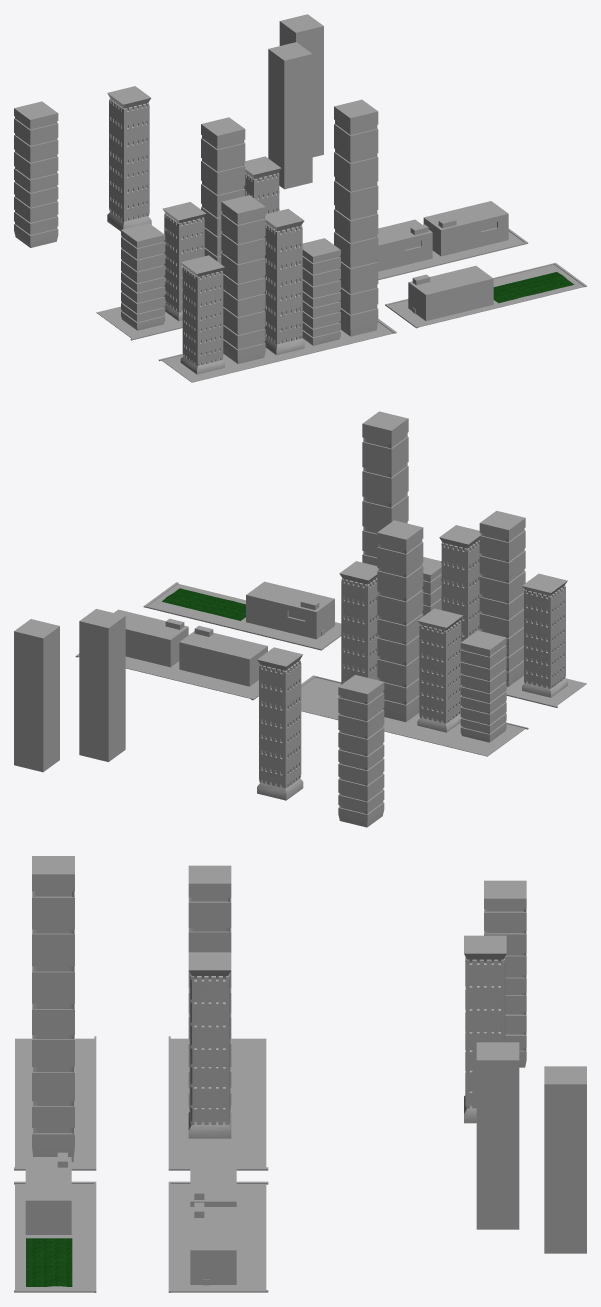
Rendered from FullScene.fbx.
The picture shows the model from 3 angles, top to bottom: view 1: azimuth 30°, elevation 25°; view 2: azimuth 150°, elevation 25°; view 3: azimuth 270°, elevation 25°; orthographic projection. The views are drawn at different scales.
Parts seen in each view (by area): view 1: pasted__pasted__pasted__pCube1 (×4), pasted__pasted__pasted__pasted__pCube1 (×4), Sidewalk, pCube1, pasted__pasted__pasted__pasted__pasted__pCube1, pasted__pasted__pCube1, polySurface2, polySurface1, pasted__pCube1, pasted__polySurface2, pasted__pasted__pasted__pasted__pasted__pasted__pCube1, pPlane1; view 2: pasted__pasted__pasted__pasted__pCube1 (×4), pasted__pasted__pasted__pCube1 (×4), Sidewalk, pCube1, pasted__pCube1, pasted__pasted__pasted__pasted__pasted__pasted__pCube1, polySurface2, pasted__pasted__pasted__pasted__pasted__pCube1, pasted__polySurface2, polySurface1, pPlane1, pasted__pasted__pCube1; view 3: Sidewalk, pasted__pasted__pasted__pCube1 (×2), pasted__pasted__pasted__pasted__pCube1 (×2), pCube1, pasted__pCube1, pasted__pasted__pasted__pasted__pasted__pasted__pCube1, polySurface1, polySurface2, pPlane1, pasted__polySurface2.
Boxes of the visible parts, left/top/right/bottom form: pasted__pasted__pasted__pCube1 (×4): left=14, top=99, right=378, bottom=374; pasted__pasted__pasted__pasted__pCube1 (×4): left=107, top=86, right=265, bottom=363; Sidewalk: left=96, top=228, right=586, bottom=382; pCube1: left=268, top=42, right=312, bottom=189; pasted__pasted__pasted__pasted__pasted__pCube1: left=265, top=208, right=304, bottom=355; pasted__pasted__pCube1: left=302, top=238, right=340, bottom=345; polySurface2: left=408, top=266, right=493, bottom=320; polySurface1: left=423, top=201, right=508, bottom=256; pasted__pCube1: left=279, top=14, right=323, bottom=157; pasted__polySurface2: left=377, top=219, right=432, bottom=271; pasted__pasted__pasted__pasted__pasted__pasted__pCube1: left=244, top=156, right=281, bottom=213; pPlane1: left=493, top=272, right=574, bottom=303; pasted__pasted__pasted__pasted__pCube1 (×4): left=257, top=510, right=525, bottom=800; pasted__pasted__pasted__pCube1 (×4): left=338, top=411, right=567, bottom=827; Sidewalk: left=75, top=582, right=586, bottom=756; pCube1: left=79, top=609, right=125, bottom=761; pasted__pCube1: left=14, top=619, right=59, bottom=772; pasted__pasted__pasted__pasted__pasted__pasted__pCube1: left=339, top=561, right=378, bottom=684; polySurface2: left=246, top=581, right=334, bottom=639; pasted__pasted__pasted__pasted__pasted__pCube1: left=439, top=525, right=480, bottom=673; pasted__polySurface2: left=179, top=626, right=267, bottom=686; polySurface1: left=114, top=609, right=188, bottom=667; pPlane1: left=162, top=588, right=245, bottom=620; pasted__pasted__pCube1: left=422, top=557, right=441, bottom=615; Sidewalk: left=14, top=1036, right=268, bottom=1292; pasted__pasted__pasted__pCube1 (×2): left=32, top=856, right=526, bottom=1161; pasted__pasted__pasted__pasted__pCube1 (×2): left=188, top=865, right=506, bottom=1123; pCube1: left=476, top=1042, right=519, bottom=1229; pasted__pCube1: left=544, top=1066, right=586, bottom=1253; pasted__pasted__pasted__pasted__pasted__pasted__pCube1: left=188, top=952, right=231, bottom=1138; polySurface1: left=190, top=1202, right=236, bottom=1285; polySurface2: left=25, top=1152, right=71, bottom=1234; pPlane1: left=26, top=1238, right=72, bottom=1286; pasted__polySurface2: left=190, top=1158, right=236, bottom=1206.
Bounding box in the file's own units: 328 × 174 × 311.
2 materials, 1 textured.
